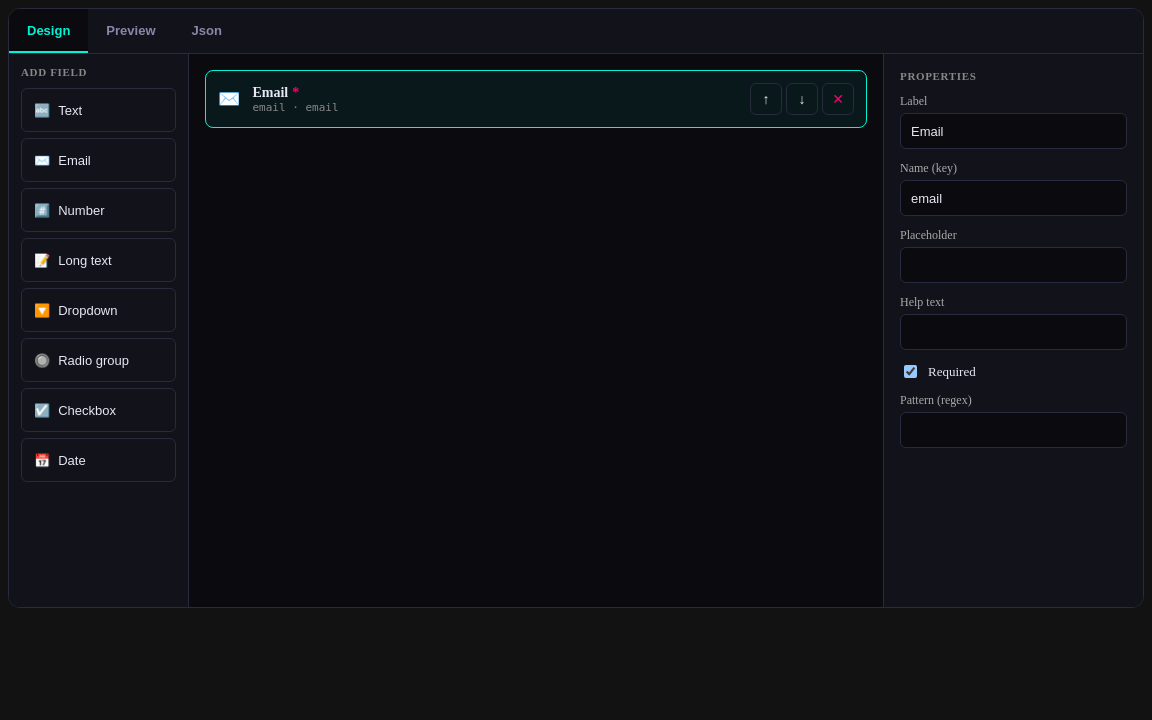
TkxFormBuilder › submits valid values and renders them as JSON
Click the tab with test id "tab-preview" at (131, 31), box [88,9,174,53]
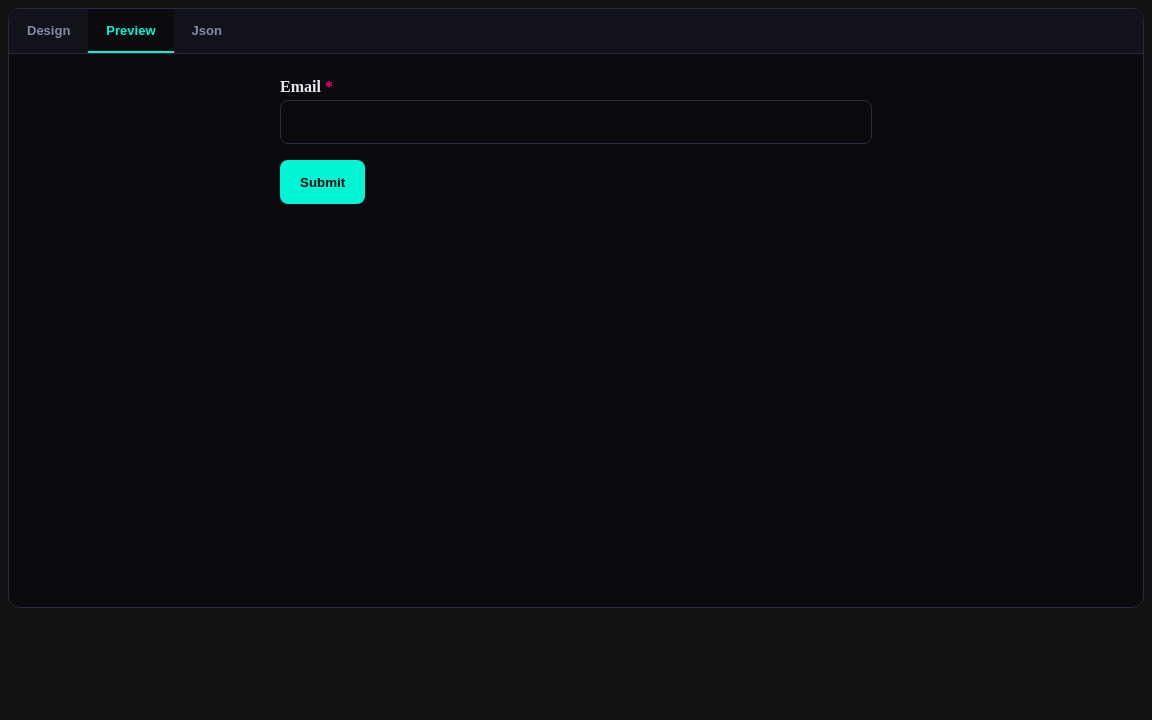
Type "a@b.co" into the field labelled "Email*" at (576, 122), box [280,100,872,144]
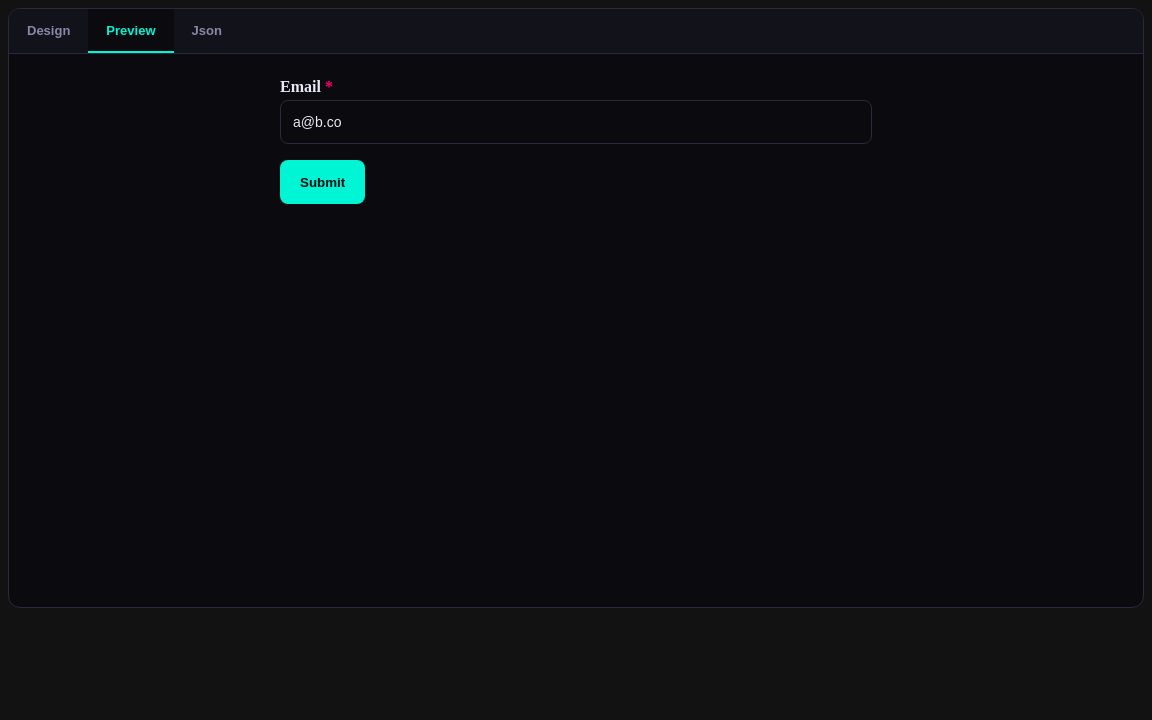
Click the button "Submit" at (323, 182), box [280,160,365,204]
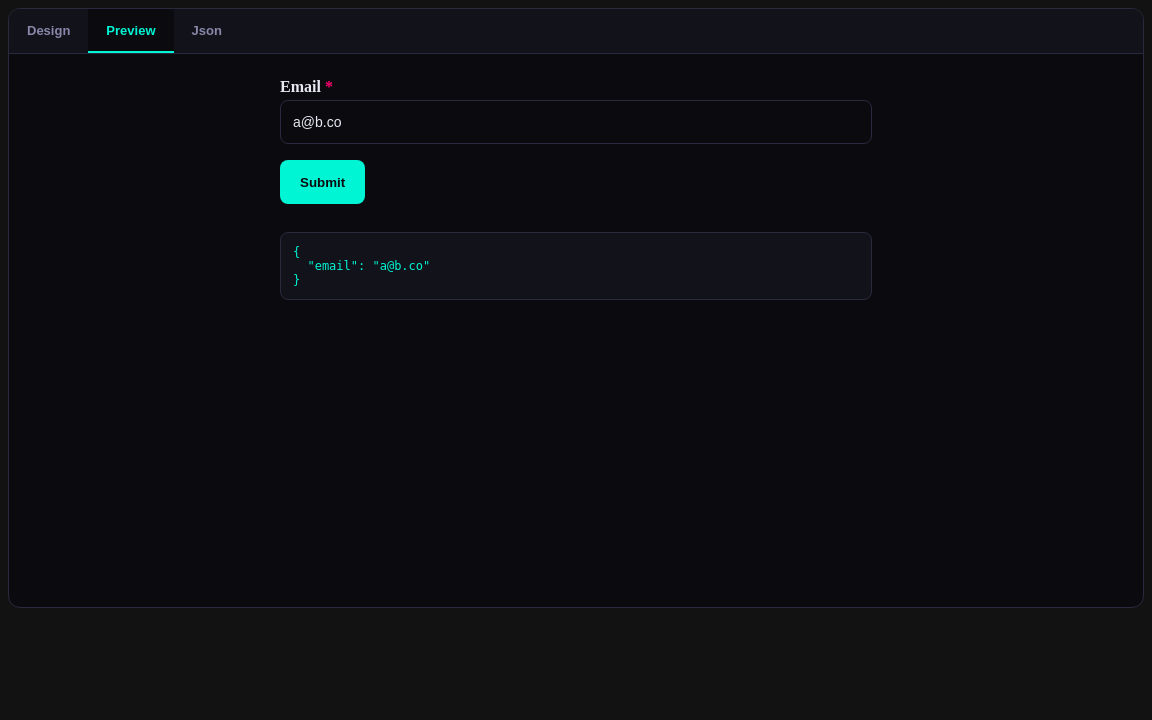
Expected: the text with test id "preview-submitted" shows "\"email\": \"a@b.co\"", [293,245,430,287]
